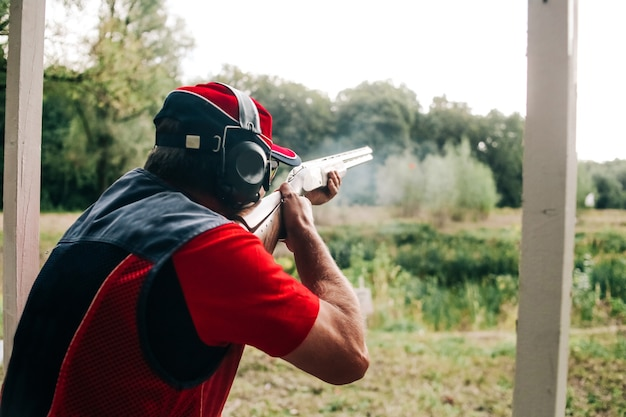gun: (233, 145, 374, 255)
